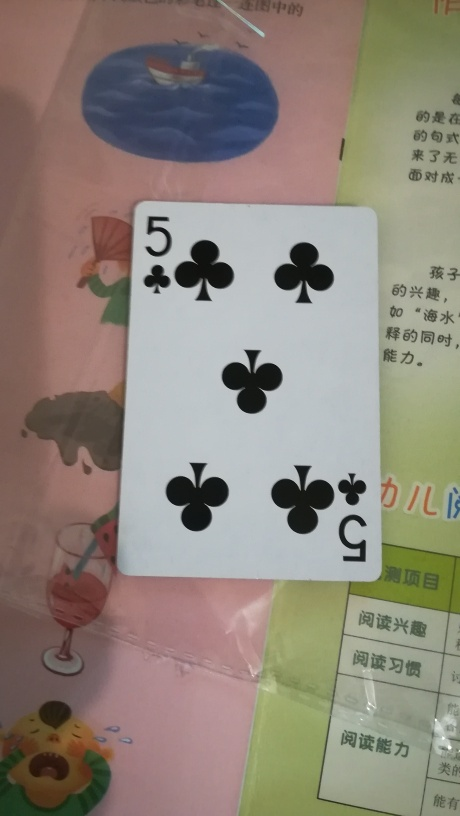mh 5: (117, 197, 383, 584)
